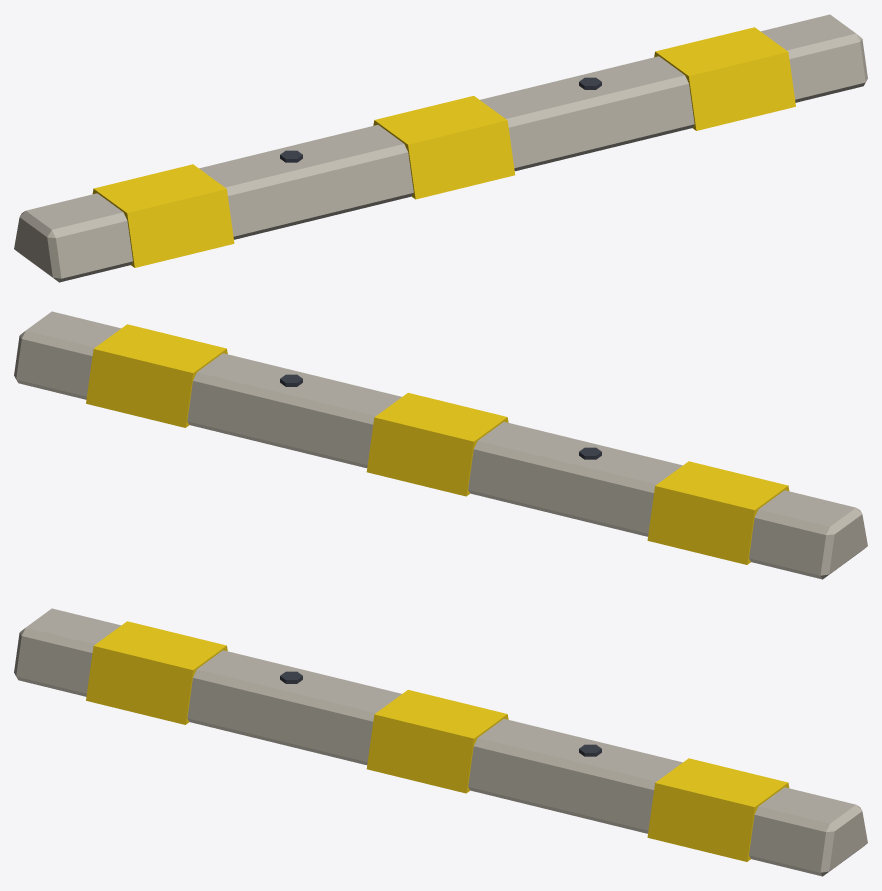
The model's file is parking_stop.glb.
The picture shows the model from 3 angles, top to bottom: view 1: azimuth 30°, elevation 25°; view 2: azimuth 150°, elevation 25°; view 3: azimuth 330°, elevation 25°; orthographic projection.
Visible parts, largest first — view 1: parking_stop; view 2: parking_stop; view 3: parking_stop.
Part boxes in pixels (left/top/right/bottom): parking_stop: left=14, top=14, right=867, bottom=282; parking_stop: left=14, top=311, right=867, bottom=579; parking_stop: left=14, top=608, right=867, bottom=876.
Bounding box in the file's own units: 1.8 × 0.108 × 0.1872.
